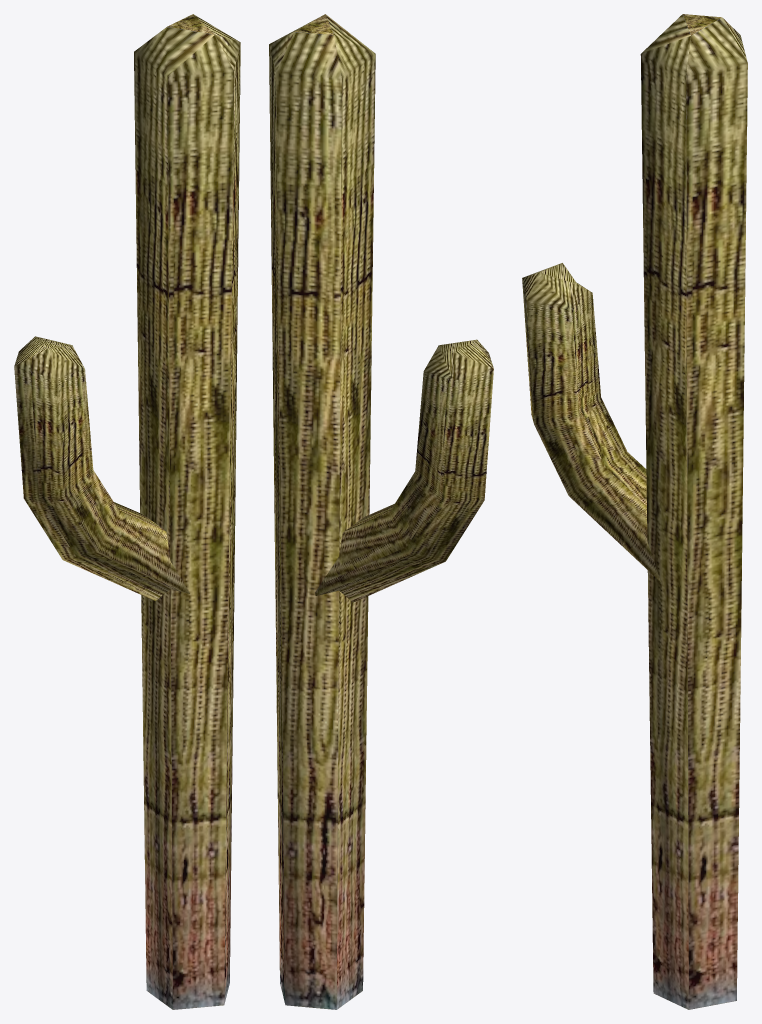
File: ADDON_CANYONPLANT_CACTUSLONG_01_58P.glb
The picture shows the model from 3 angles, left to right: view 1: azimuth 30°, elevation 25°; view 2: azimuth 150°, elevation 25°; view 3: azimuth 330°, elevation 25°; orthographic projection.
Visible parts, largest first — view 1: Mesh; view 2: Mesh; view 3: Mesh.
Boxes of the visible parts, left/top/right/bottom form: Mesh: left=14, top=14, right=240, bottom=1009; Mesh: left=269, top=14, right=493, bottom=1009; Mesh: left=522, top=14, right=747, bottom=1009.
Size of the model in its own units: 0.7826 by 3.2 by 0.3286.
1 material, 1 textured.
